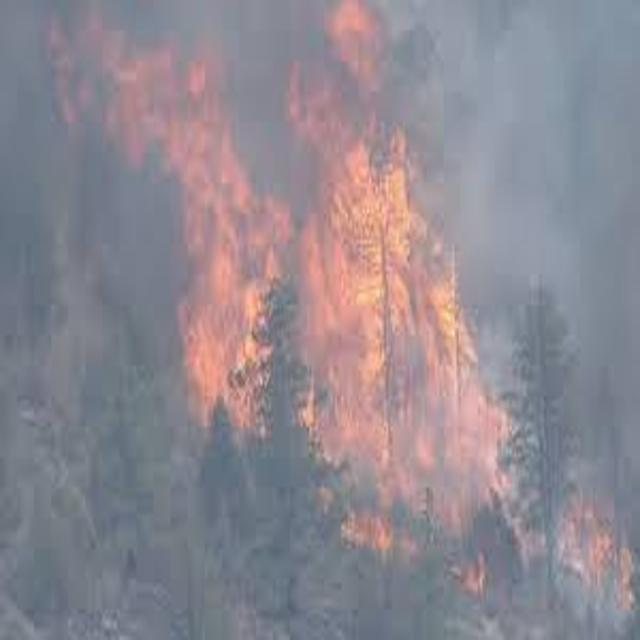Fire: (302, 4, 531, 596), (42, 10, 298, 439)
Smoke: (536, 0, 640, 529)
